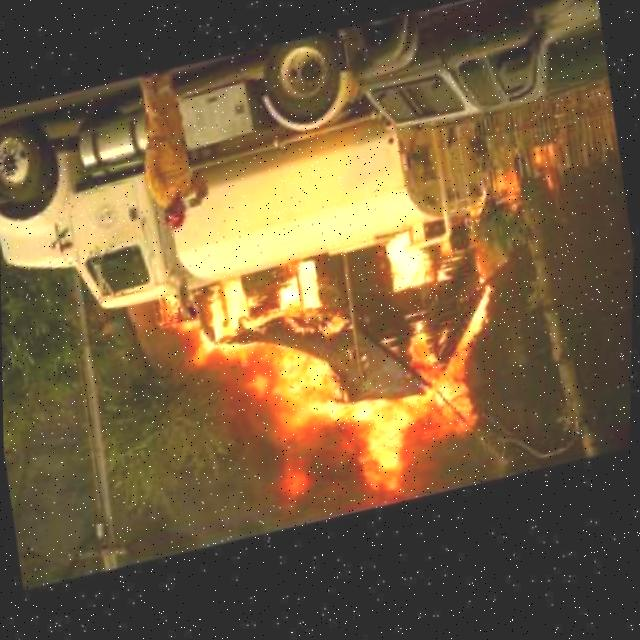fire: (141, 226, 521, 550), (478, 143, 567, 229)
